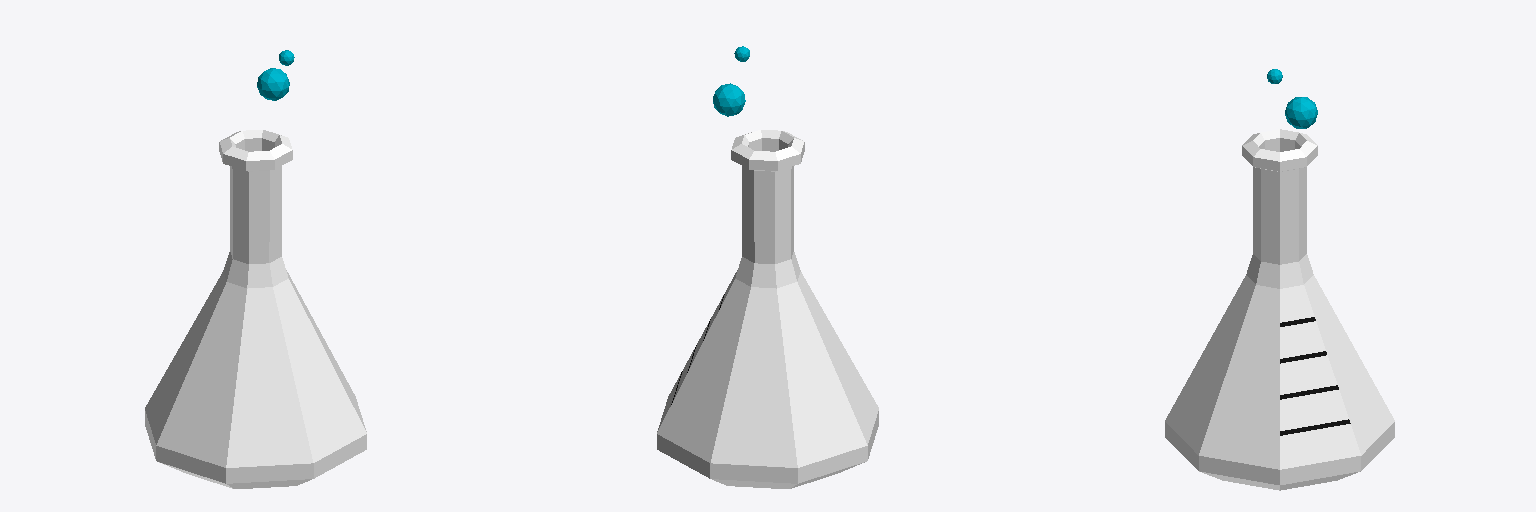
The model's file is Beaker.obj.
3 views of the same model, side by side, from view 1: azimuth 30°, elevation 25°; view 2: azimuth 150°, elevation 25°; view 3: azimuth 270°, elevation 25° (orthographic).
Visible parts, largest first — view 1: Beaker_Icosphere; view 2: Beaker_Icosphere; view 3: Beaker_Icosphere.
Boxes of the visible parts, <box> form: Beaker_Icosphere: <box>145,50,366,488</box>; Beaker_Icosphere: <box>657,46,878,488</box>; Beaker_Icosphere: <box>1165,69,1394,490</box>.
Bounding box in the file's own units: 10 × 19.19 × 10.